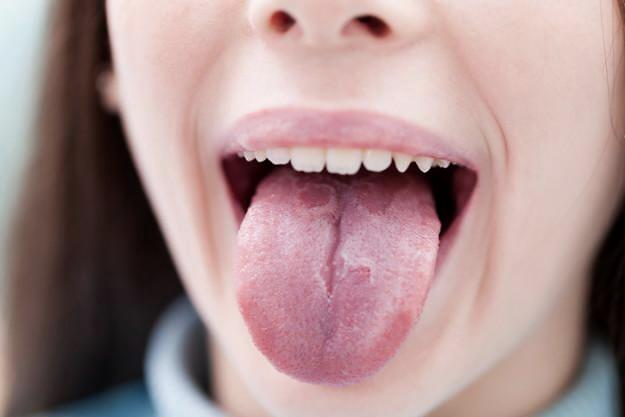baitaishe: (232, 178, 440, 386)
botaishe: (295, 178, 339, 212)
liewenshe: (317, 210, 346, 301)
